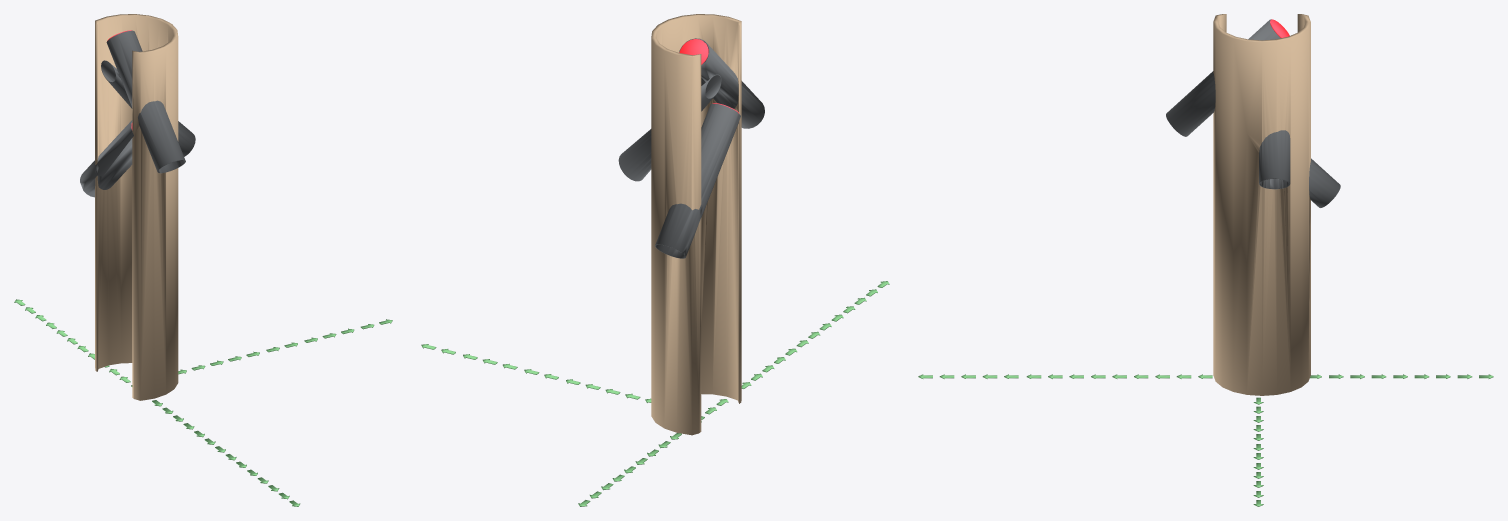
File: tinker14.gltf
3 renders of one model, left to right at view 1: azimuth 30°, elevation 25°; view 2: azimuth 150°, elevation 25°; view 3: azimuth 270°, elevation 25°, orthographic. The views are drawn at different scales.
Parts seen in each view (by area): view 1: obj_0.001; view 2: obj_0.001; view 3: obj_0.001.
Part boxes in pixels (box(x1,y1,x2,y2)): obj_0.001: box(14, 14, 392, 506); obj_0.001: box(421, 14, 889, 506); obj_0.001: box(918, 14, 1493, 506).
Bounding box in the file's own units: 333 × 403 × 590.
